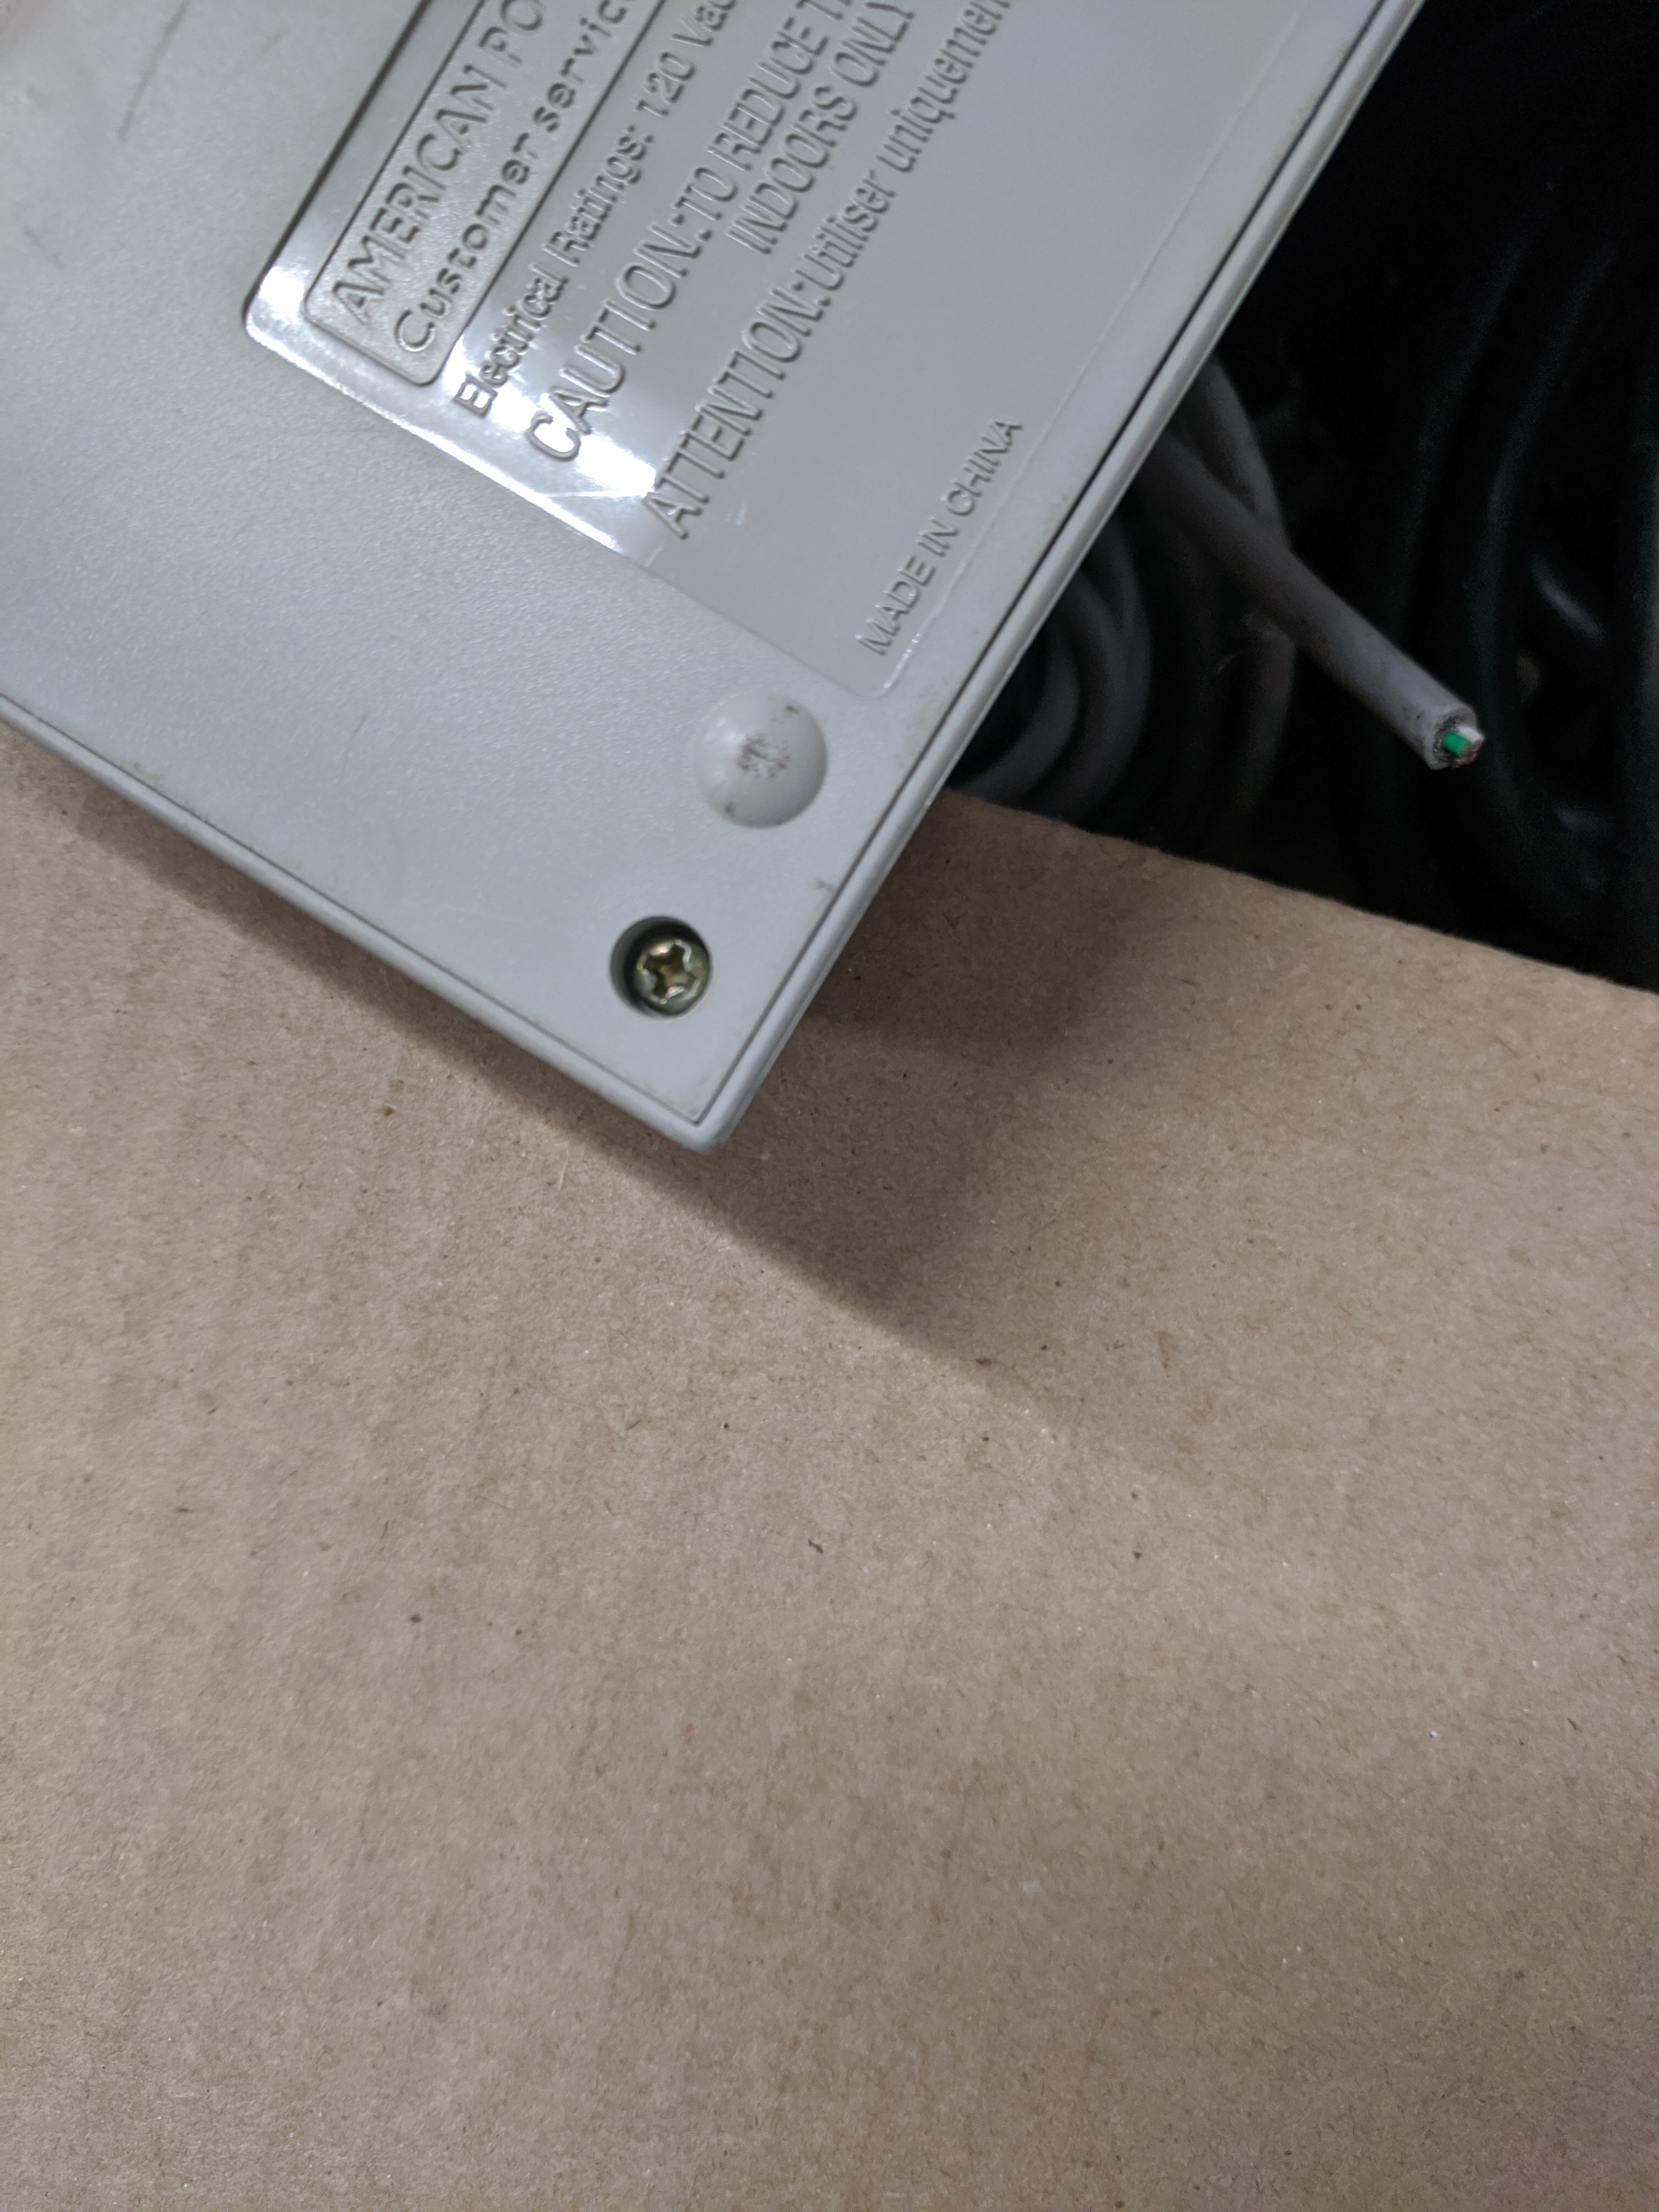cross_recessed_screw: (591, 906, 735, 1029)
